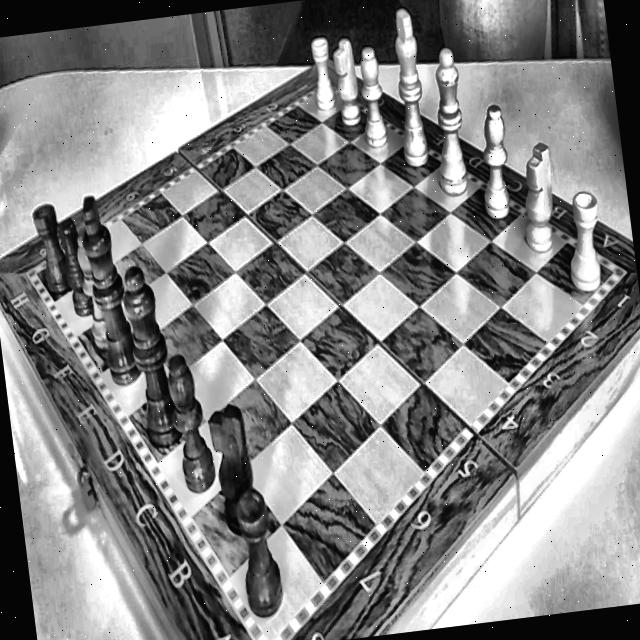white-bishop: (471, 98, 518, 234), (356, 48, 394, 163)
white-king: (388, 0, 441, 206)
white-knight: (518, 132, 560, 268), (332, 37, 362, 130)
white-queen: (426, 46, 476, 210)
white-rook: (556, 175, 626, 316), (295, 25, 339, 109)
